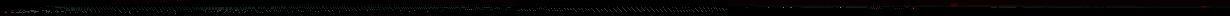Blue cone: (45, 6, 51, 7)
Yellow cone: (949, 3, 960, 7), (1200, 6, 1209, 8)
